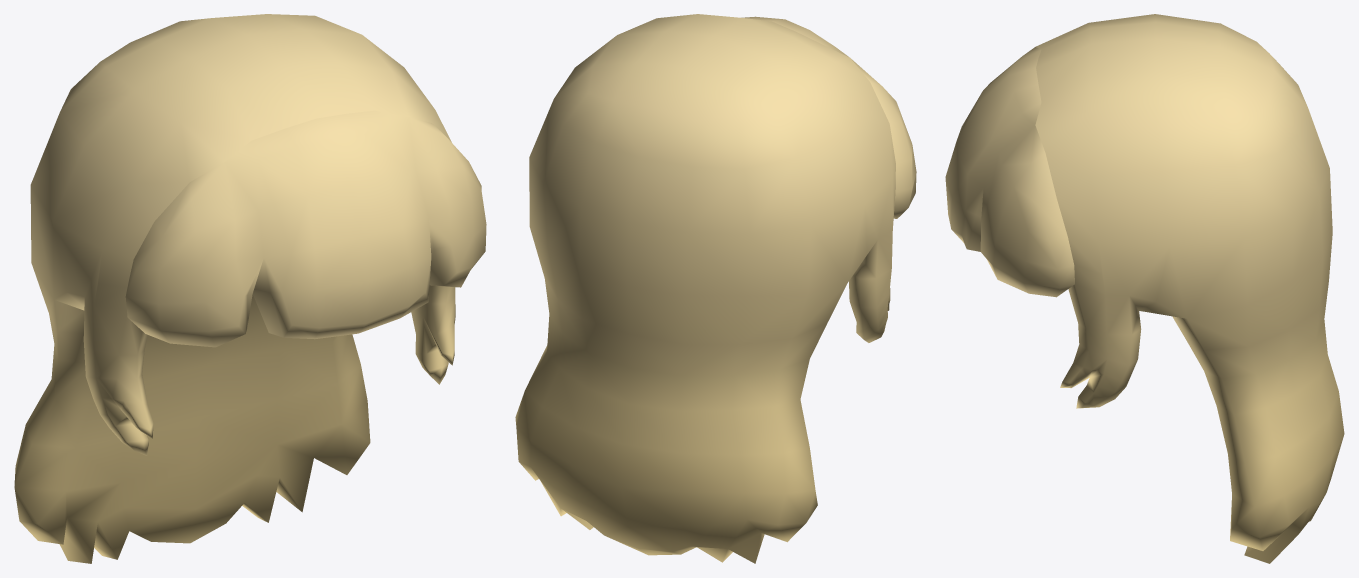
Rendered from Hair_5.fbx.
3 views of the same model, side by side, from view 1: azimuth 30°, elevation 25°; view 2: azimuth 150°, elevation 25°; view 3: azimuth 270°, elevation 25° (orthographic). The views are drawn at different scales.
Parts seen in each view (by area): view 1: Hair_5; view 2: Hair_5; view 3: Hair_5.
Part boxes in pixels (x1,y1,x2,y2): Hair_5: (14,14,486,563); Hair_5: (515,14,916,563); Hair_5: (945,14,1344,563).
Bounding box in the file's own units: 54.73 × 77.75 × 58.03.
